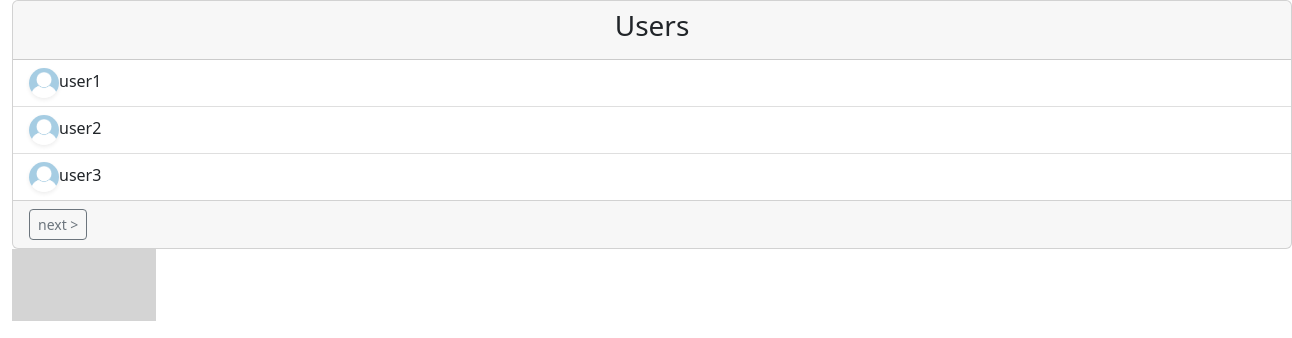
Test: User List › Interactions › displays next page after clicking next
Expected: the link "user1" is shown, 13,60 -> 1291,107
Click the button "next >" at (58, 224), box 29,209 -> 87,240
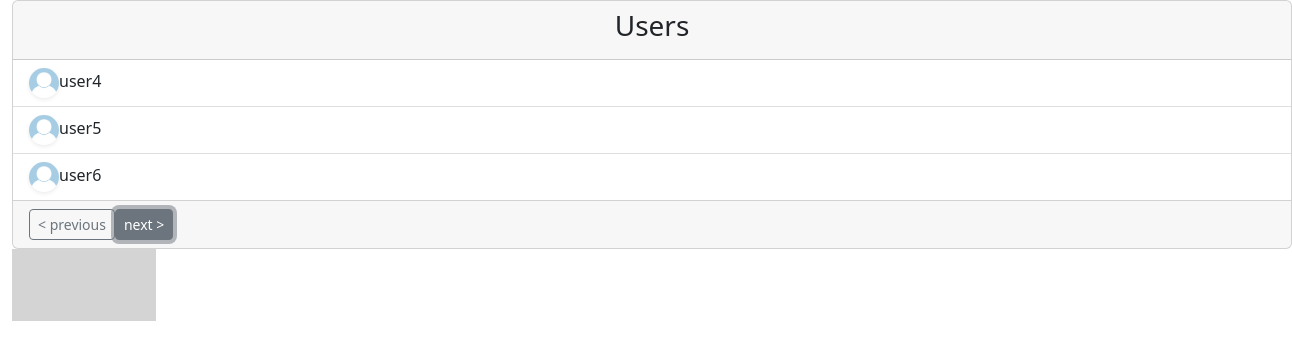
Expected: the link "user4" is shown, 13,60 -> 1291,107
